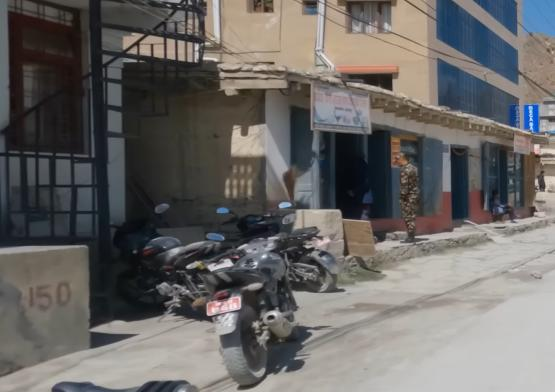bike: (195, 224, 305, 392)
